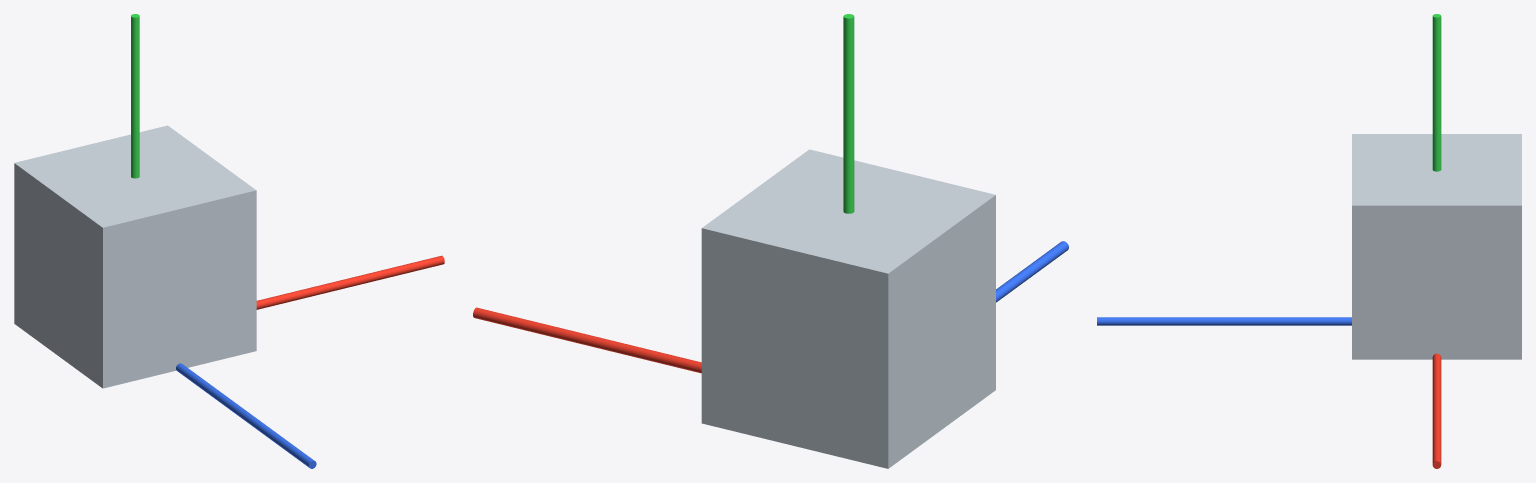
Rendered from calibration.glb.
The picture shows the model from 3 angles, left to right: view 1: azimuth 30°, elevation 25°; view 2: azimuth 150°, elevation 25°; view 3: azimuth 270°, elevation 25°; orthographic projection. The views are drawn at different scales.
Visible parts, largest first — view 1: Calibration_1m_Cube, Positive_X, Positive_Z, Positive_Y; view 2: Calibration_1m_Cube, Positive_X, Positive_Y, Positive_Z; view 3: Calibration_1m_Cube, Positive_Z, Positive_Y, Positive_X.
Part boxes in pixels (x1,y1,x2,y2): Calibration_1m_Cube: (14, 125, 256, 388); Positive_X: (256, 255, 444, 309); Positive_Z: (176, 363, 316, 468); Positive_Y: (131, 14, 139, 178); Calibration_1m_Cube: (701, 149, 995, 468); Positive_X: (473, 307, 701, 373); Positive_Y: (843, 14, 854, 213); Positive_Z: (996, 241, 1068, 302); Calibration_1m_Cube: (1352, 134, 1521, 359); Positive_Z: (1097, 317, 1351, 325); Positive_Y: (1432, 14, 1441, 171); Positive_X: (1432, 353, 1441, 468).
Size of what is drawn, in the model's own units: 2.5 by 2.01 by 2.5.
